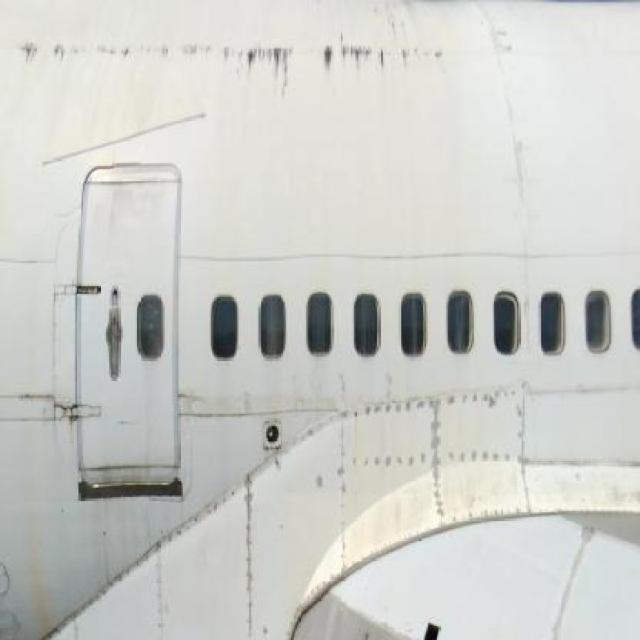Missing-Rivet: (56, 535, 144, 628), (355, 386, 423, 489), (236, 460, 272, 640), (502, 373, 544, 518), (452, 379, 505, 479), (425, 378, 452, 532), (332, 397, 354, 580), (147, 537, 175, 640), (176, 503, 236, 539)
Rust: (26, 491, 54, 640)
Scartch: (16, 28, 489, 104)
